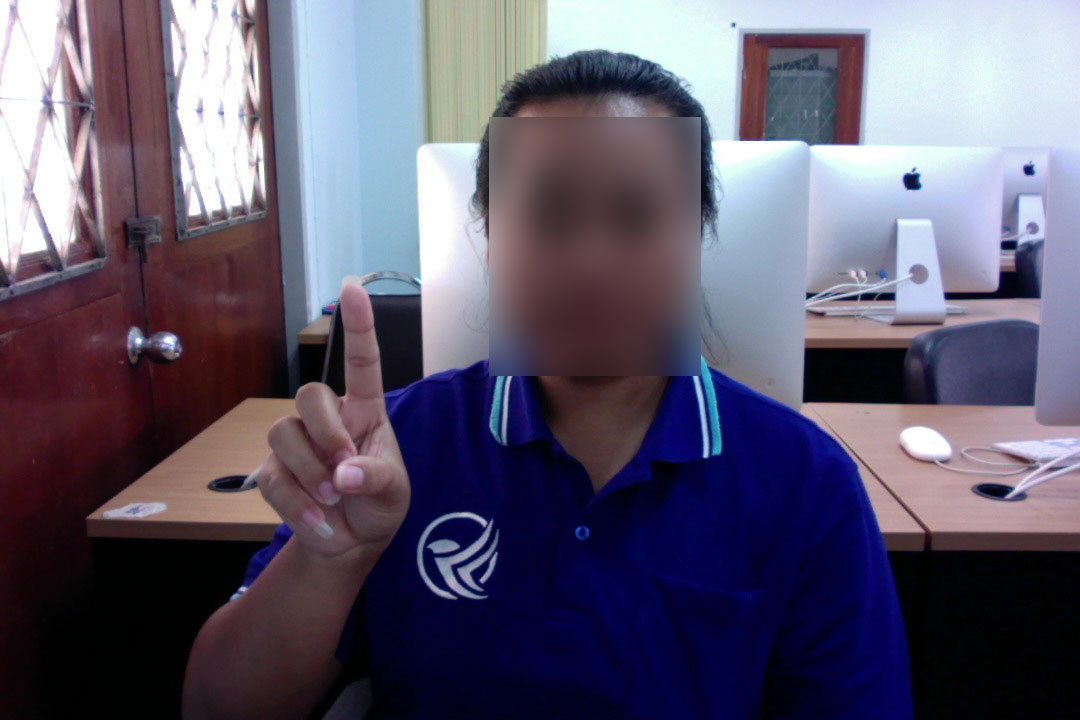dor: (251, 269, 428, 565)
